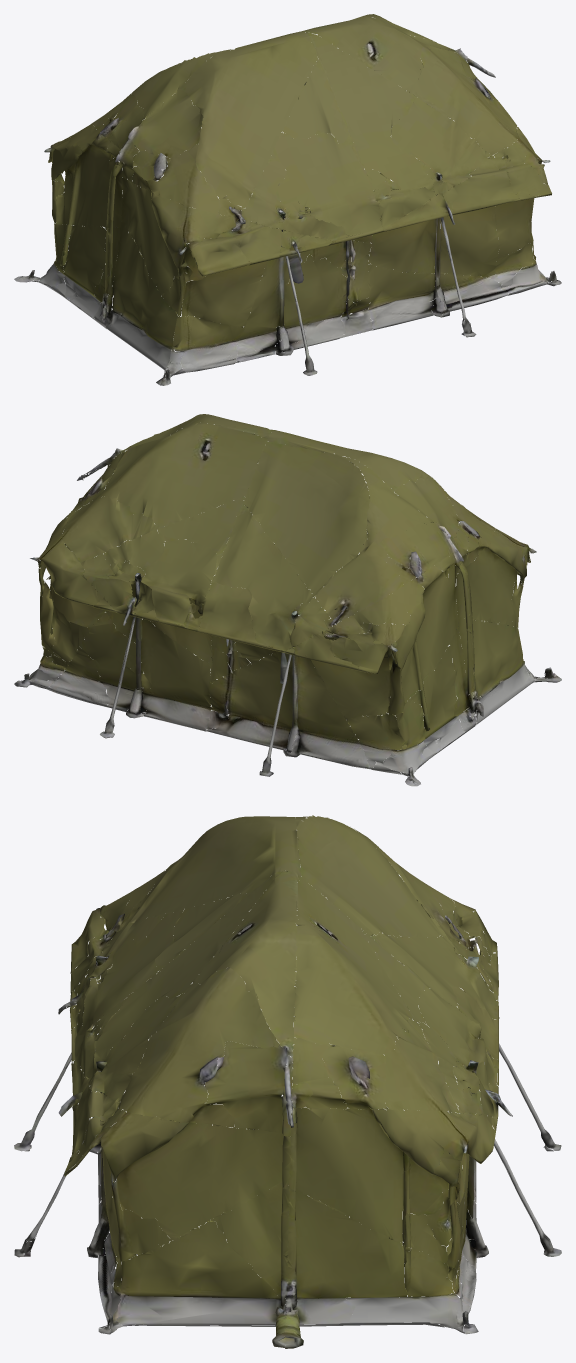
File: prop_expedition_tent_LOD0.glb
3 views of the same model, one above another, from view 1: azimuth 30°, elevation 25°; view 2: azimuth 150°, elevation 25°; view 3: azimuth 270°, elevation 25° (orthographic). The views are drawn at different scales.
Visible parts, largest first — view 1: tripo_node_f8e14f25-867f-4e02-b513-935ae1ca1cbb; view 2: tripo_node_f8e14f25-867f-4e02-b513-935ae1ca1cbb; view 3: tripo_node_f8e14f25-867f-4e02-b513-935ae1ca1cbb.
Boxes of the visible parts, x1=… form: tripo_node_f8e14f25-867f-4e02-b513-935ae1ca1cbb: x1=14, y1=14, x2=561, y2=385; tripo_node_f8e14f25-867f-4e02-b513-935ae1ca1cbb: x1=14, y1=414, x2=561, y2=786; tripo_node_f8e14f25-867f-4e02-b513-935ae1ca1cbb: x1=14, y1=815, x2=561, y2=1348.
Bounding box in the file's own units: 1 × 0.5472 × 0.8028.
1 material, 1 textured.
